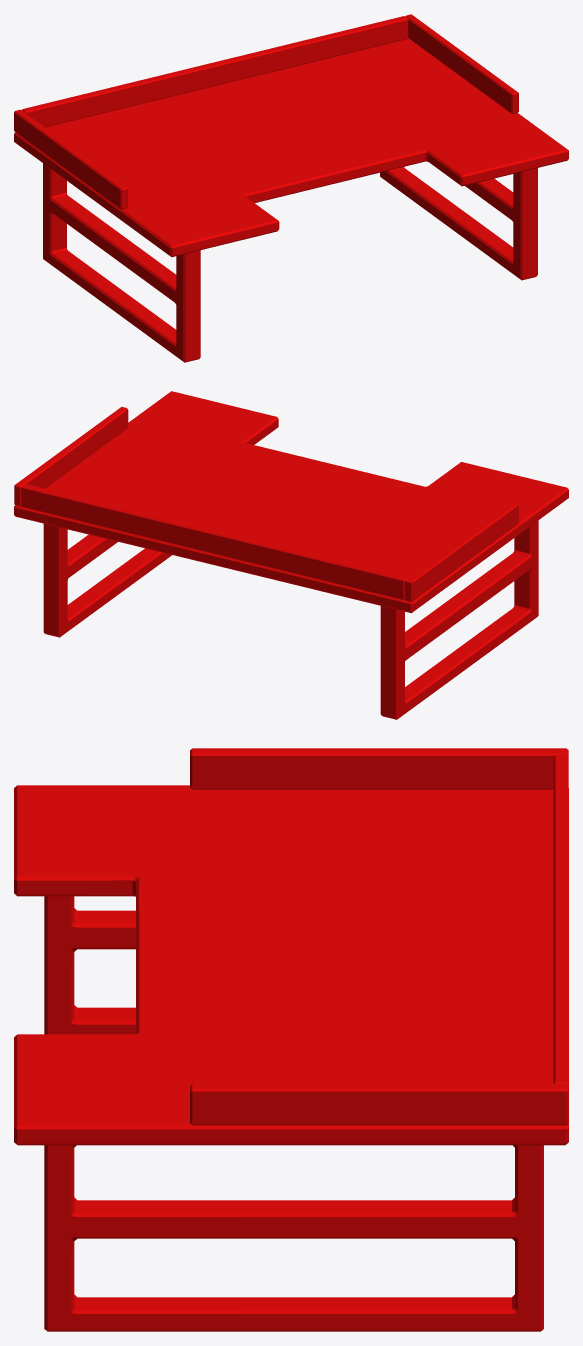
File: Desk_high.fbx
The picture shows the model from 3 angles, top to bottom: view 1: azimuth 30°, elevation 25°; view 2: azimuth 150°, elevation 25°; view 3: azimuth 270°, elevation 25°; orthographic projection. The views are drawn at different scales.
Visible parts, largest first — view 1: Desk_high; view 2: Desk_high; view 3: Desk_high.
Part boxes in pixels (box(x1,y1,x2,y2)): Desk_high: box(14, 14, 568, 362); Desk_high: box(14, 391, 568, 719); Desk_high: box(14, 748, 568, 1331).
Bounding box in the file's own units: 11.22 × 4.01 × 7.68.
